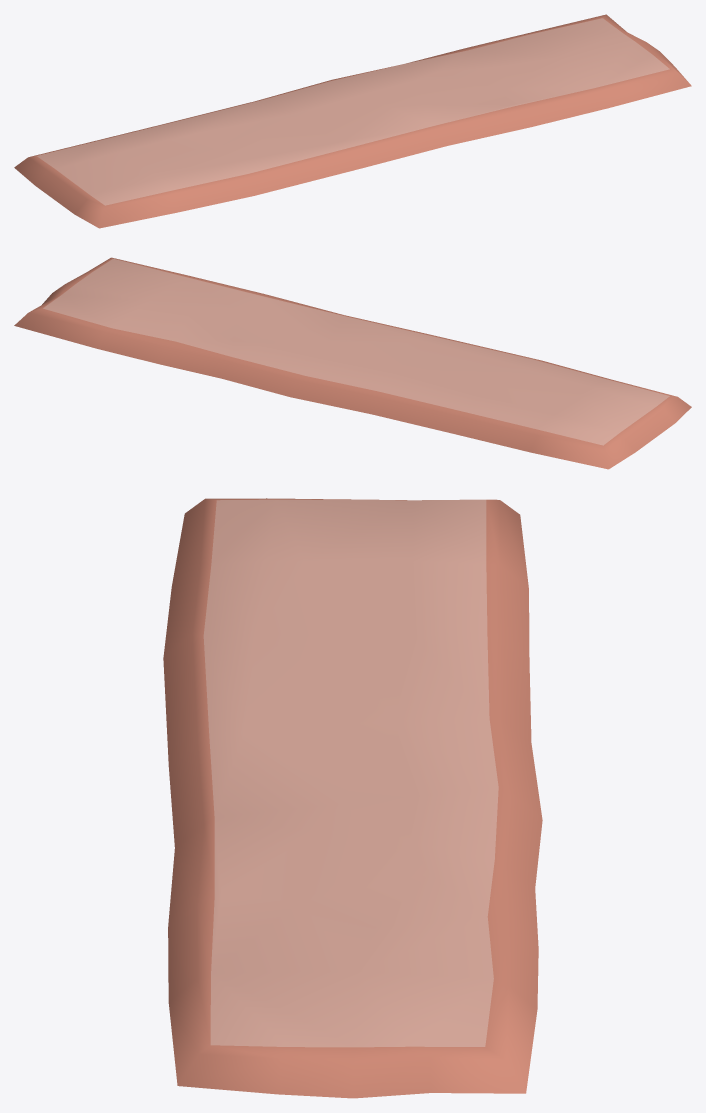
The model's file is ground_007.glb.
3 views of the same model, one above another, from view 1: azimuth 30°, elevation 25°; view 2: azimuth 150°, elevation 25°; view 3: azimuth 270°, elevation 25° (orthographic). The views are drawn at different scales.
Parts seen in each view (by area): view 1: ground_007.006; view 2: ground_007.006; view 3: ground_007.006.
Boxes of the visible parts, x1=… form: ground_007.006: x1=14, y1=14, x2=691, y2=228; ground_007.006: x1=14, y1=257, x2=691, y2=469; ground_007.006: x1=163, y1=498, x2=542, y2=1098.
Bounding box in the file's own units: 65.36 × 1.66 × 17.84.
1 material, 1 textured.
